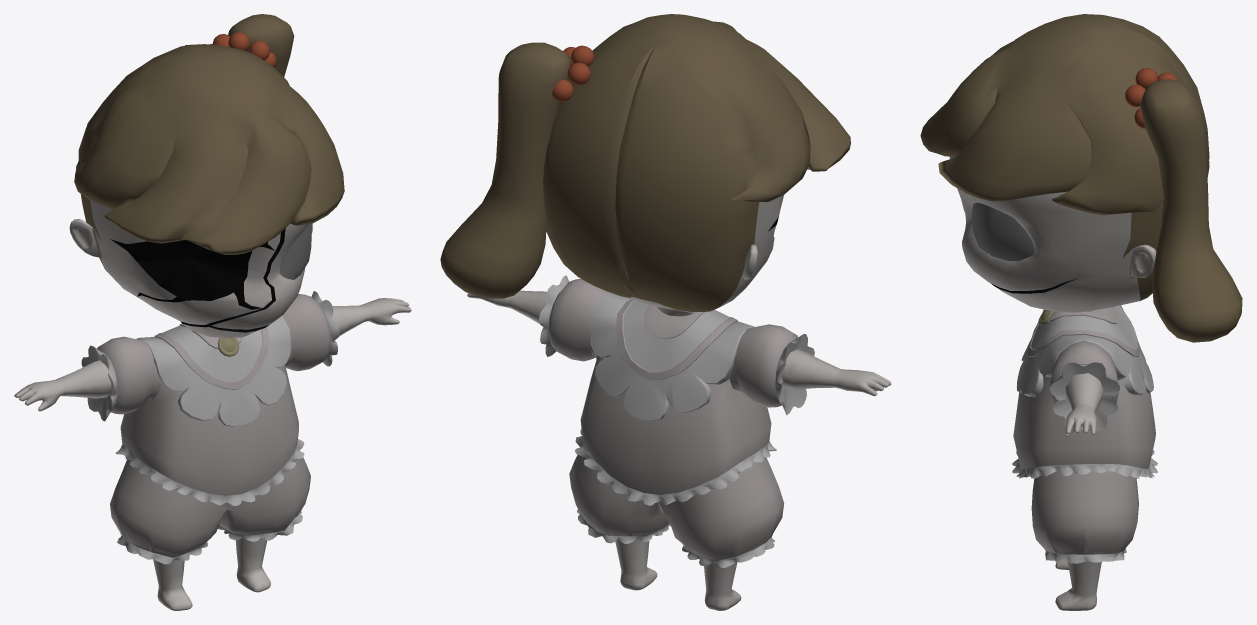
Rendered from DOLL.fbx.
3 renders of one model, left to right at view 1: azimuth 30°, elevation 25°; view 2: azimuth 150°, elevation 25°; view 3: azimuth 270°, elevation 25°, orthographic. The views are drawn at different scales.
Visible parts, largest first — view 1: hair, clothes, face, shawl, pants, body, lace, ponytail, eye_L, hair_tie; view 2: hair, clothes, ponytail, shawl, pants, body, lace, face, hair_tie; view 3: hair, ponytail, face, clothes, pants, shawl, lace, body, eye_L, hair_tie.
Boxes of the visible parts, left/top/right/bottom form: hair: left=74, top=44, right=344, bottom=271; clothes: left=97, top=294, right=330, bottom=495; face: left=69, top=200, right=312, bottom=338; shawl: left=136, top=316, right=290, bottom=426; pants: left=110, top=450, right=310, bottom=557; body: left=14, top=298, right=411, bottom=610; lace: left=81, top=291, right=339, bottom=564; ponytail: left=228, top=14, right=294, bottom=77; eye_L: left=279, top=223, right=311, bottom=279; hair_tie: left=212, top=32, right=276, bottom=67; hair: left=543, top=14, right=850, bottom=311; clothes: left=548, top=279, right=798, bottom=494; ponytail: left=440, top=42, right=570, bottom=298; shawl: left=590, top=292, right=754, bottom=421; pants: left=569, top=455, right=784, bottom=560; body: left=467, top=290, right=891, bottom=610; lace: left=539, top=275, right=814, bottom=567; face: left=623, top=194, right=784, bottom=316; hair_tie: left=552, top=45, right=594, bottom=103; hair: left=920, top=14, right=1209, bottom=300; ponytail: left=1140, top=79, right=1242, bottom=342; face: left=949, top=155, right=1156, bottom=312; clothes: left=1013, top=340, right=1155, bottom=469; pants: left=1031, top=465, right=1138, bottom=554; shawl: left=1016, top=305, right=1153, bottom=397; lace: left=1012, top=362, right=1157, bottom=563; body: left=1055, top=373, right=1103, bottom=610; eye_L: left=972, top=202, right=1034, bottom=261; hair_tie: left=1125, top=68, right=1177, bottom=128.
Size of the model in its own units: 0.2329 by 0.307 by 0.1593.
